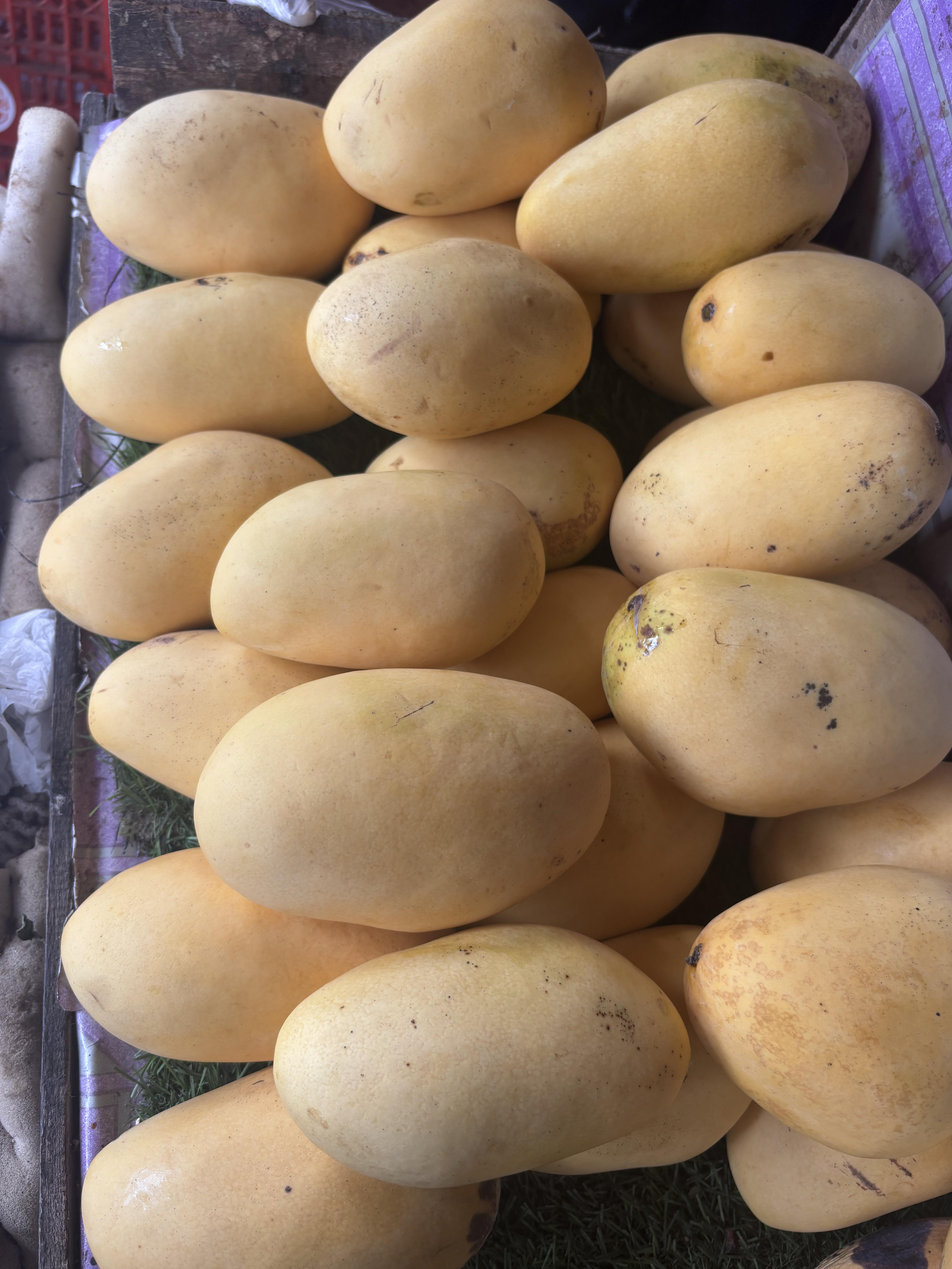mango: (194, 668, 611, 932), (274, 925, 689, 1187), (602, 568, 952, 816), (211, 471, 544, 670), (308, 239, 592, 439)
occluded: (82, 1069, 499, 1269), (684, 865, 952, 1159), (61, 849, 430, 1062), (610, 381, 952, 589), (517, 79, 847, 294), (38, 431, 331, 642), (324, 0, 606, 217), (86, 89, 372, 278), (485, 718, 724, 940), (541, 925, 750, 1175), (60, 273, 352, 443), (89, 630, 343, 799), (603, 33, 871, 189), (682, 250, 945, 407), (366, 413, 622, 571), (726, 1102, 952, 1232), (452, 565, 629, 721), (749, 761, 952, 890), (601, 289, 709, 409), (342, 202, 518, 272), (833, 560, 952, 655), (817, 1218, 952, 1269)
